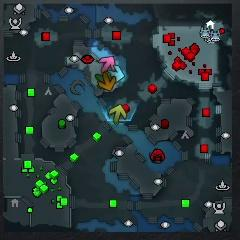x1: (99, 56, 116, 73)
x2: (108, 105, 127, 124)
x3: (107, 66, 125, 82)
x4: (95, 73, 111, 88)
x5: (96, 72, 116, 91)
